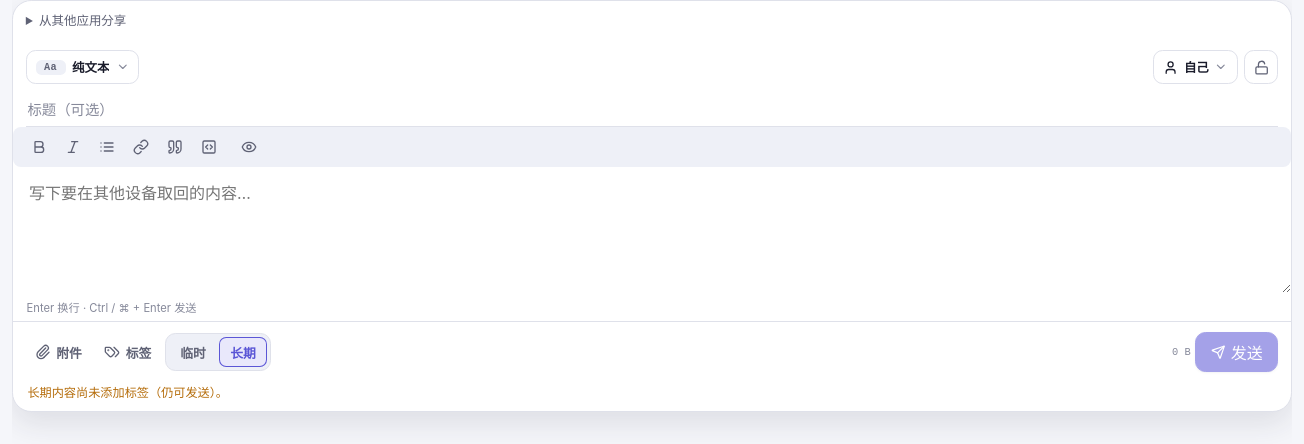
MessageComposer › uses the direct-send contract for a picked recipient on Ctrl+Enter
Click the button with aria-label "接收人": [1196, 67] box x1=1153 y1=50 x2=1238 y2=84
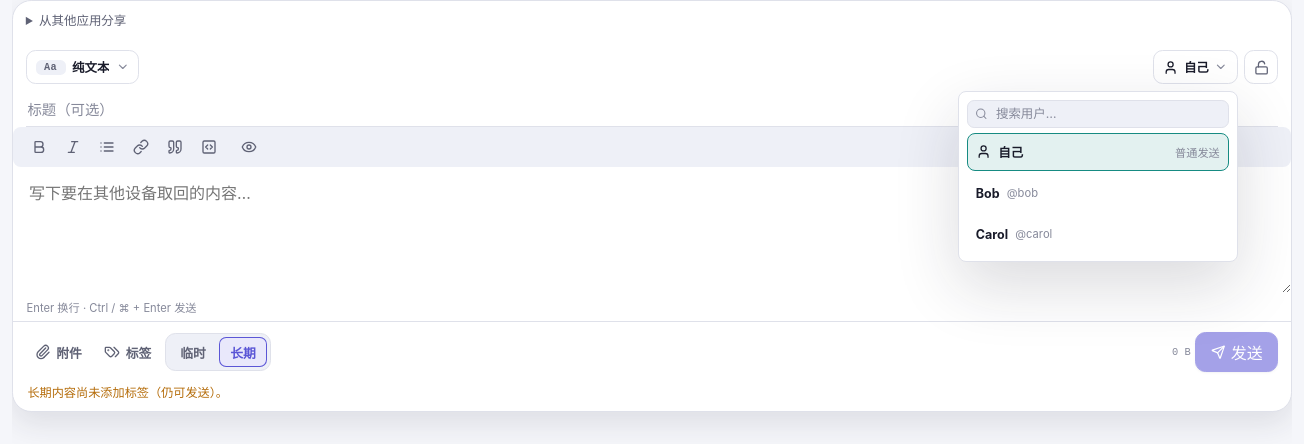
Expected: the option "Bob @bob" is shown
Click the option "Bob @bob": [1022, 193] box x1=967 y1=174 x2=1229 y2=212
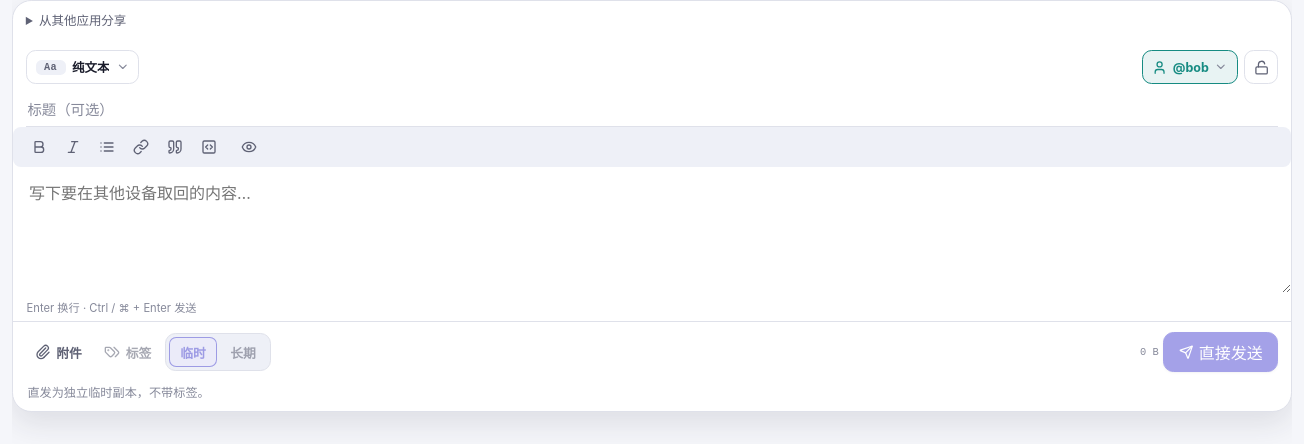
Expected: the button with aria-label "接收人" reads "@bob", x1=1142 y1=50 x2=1238 y2=84
In the text box with placeholder "写下要在其他设备取回的内容…": [652, 230] box x1=13 y1=167 x2=1291 y2=293, type "send once"
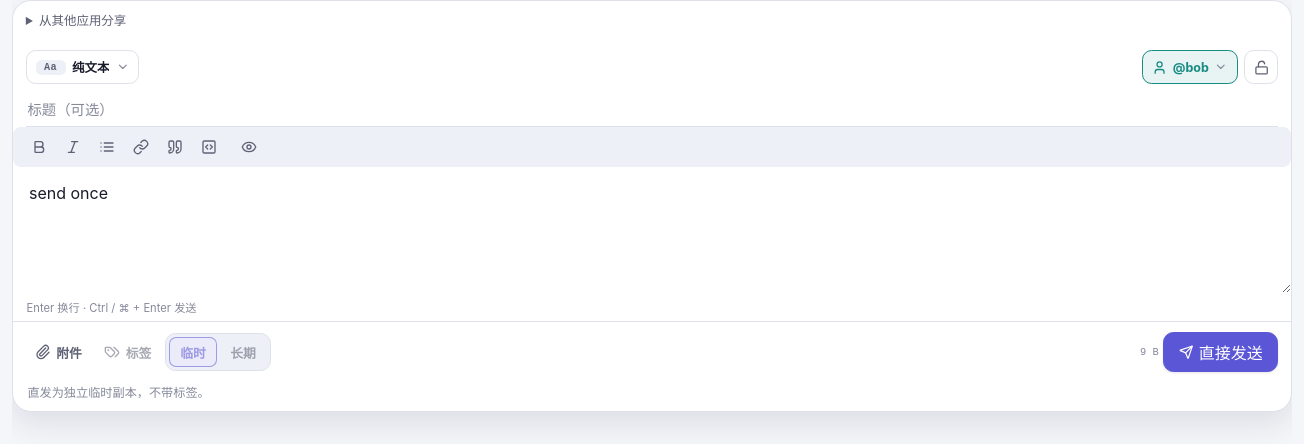
Press Enter in the text box, box x1=13 y1=167 x2=1291 y2=293
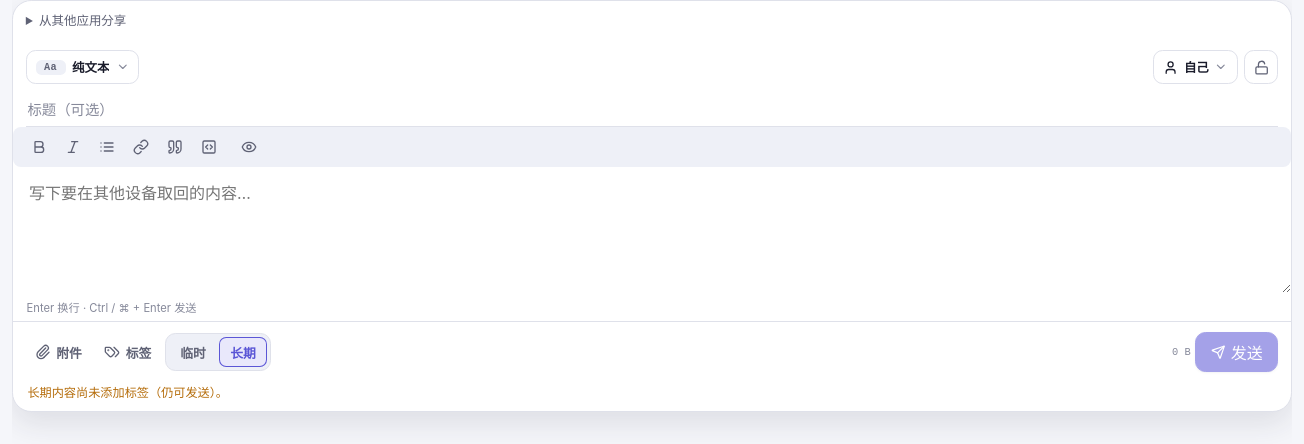
Expected: the text box with placeholder "写下要在其他设备取回的内容…" is empty, x1=13 y1=167 x2=1291 y2=293
Expected: the button with aria-label "接收人" reads "自己", x1=1153 y1=50 x2=1238 y2=84
